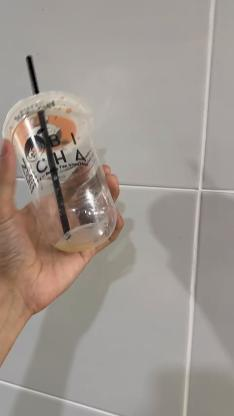Plastic Cup: (4, 90, 118, 254)
